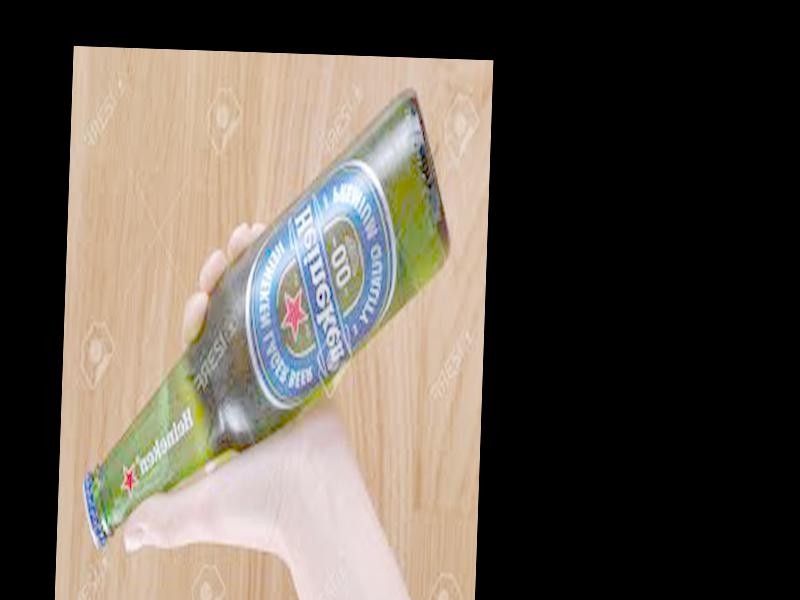Beer: (79, 80, 457, 558)
